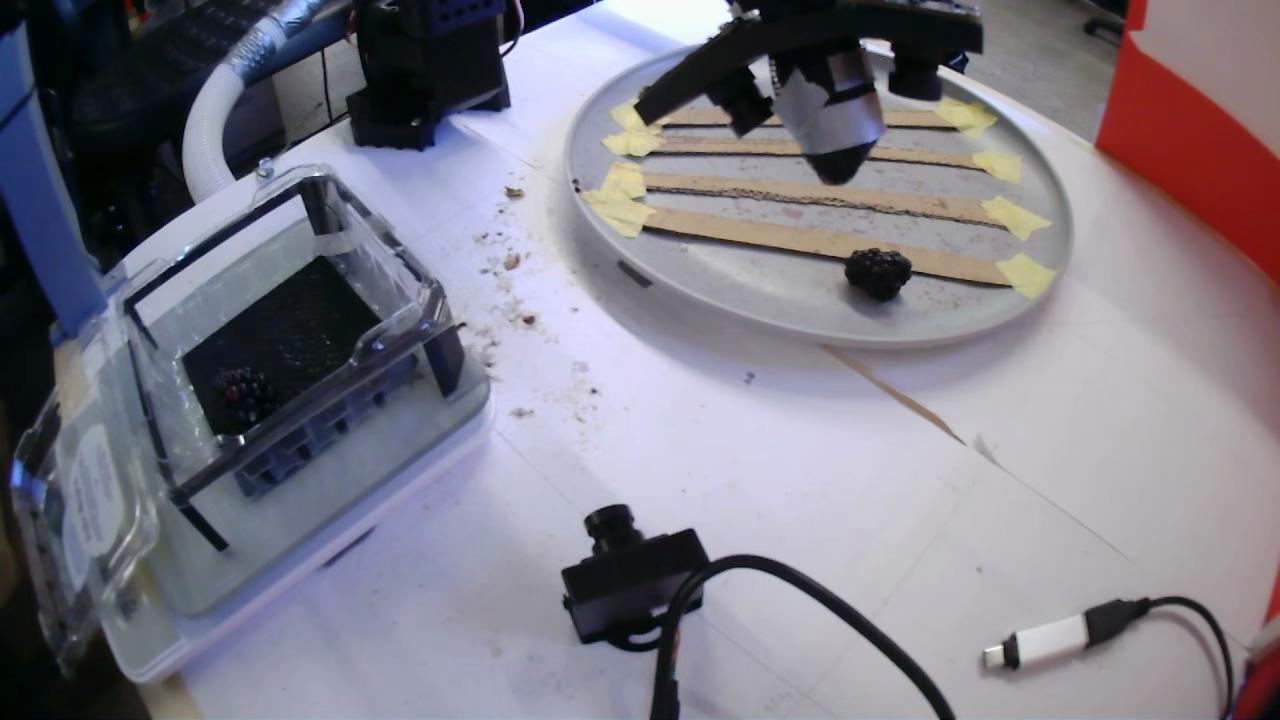berry: (844, 248, 911, 301), (217, 367, 274, 426)
